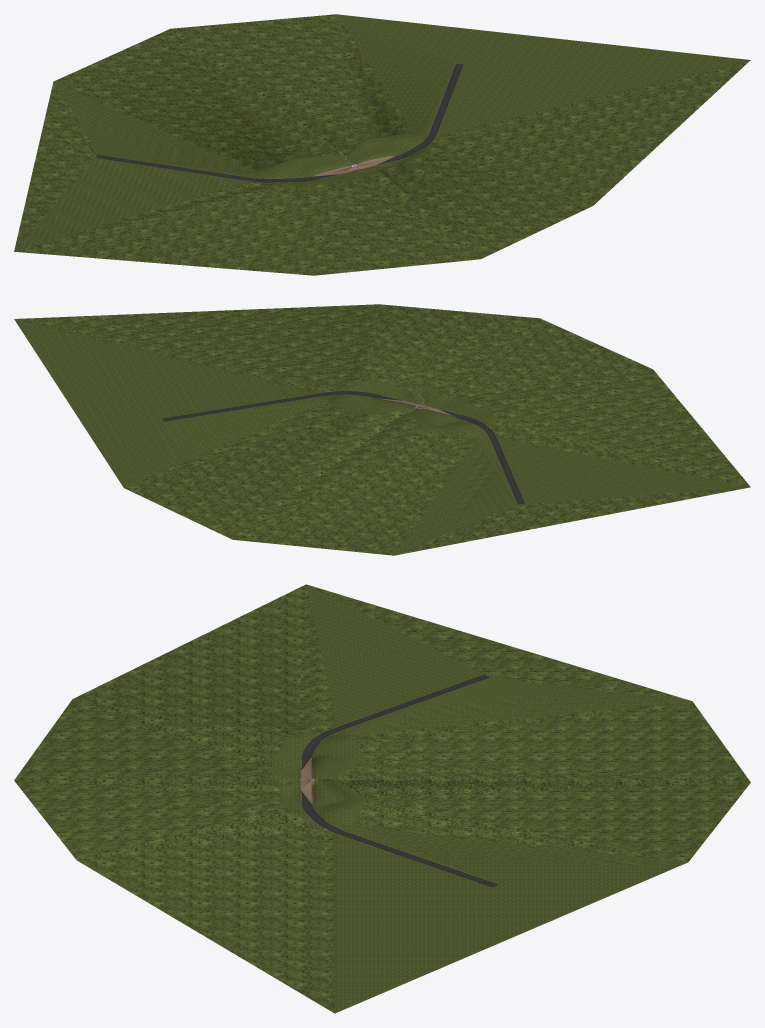
The model's file is ENVO_FootBridge.obj.
The picture shows the model from 3 angles, top to bottom: view 1: azimuth 30°, elevation 25°; view 2: azimuth 150°, elevation 25°; view 3: azimuth 270°, elevation 25°; orthographic projection. The views are drawn at different scales.
Parts seen in each view (by area): view 1: FootBridge; view 2: FootBridge; view 3: FootBridge.
Part boxes in pixels (box(x1,y1,x2,y2)): FootBridge: box(14, 14, 750, 275); FootBridge: box(14, 304, 750, 555); FootBridge: box(14, 584, 750, 1013).
Size of what is drawn, in the model's own units: 191646 by 1810 by 139050.
28 materials, 27 textured.
